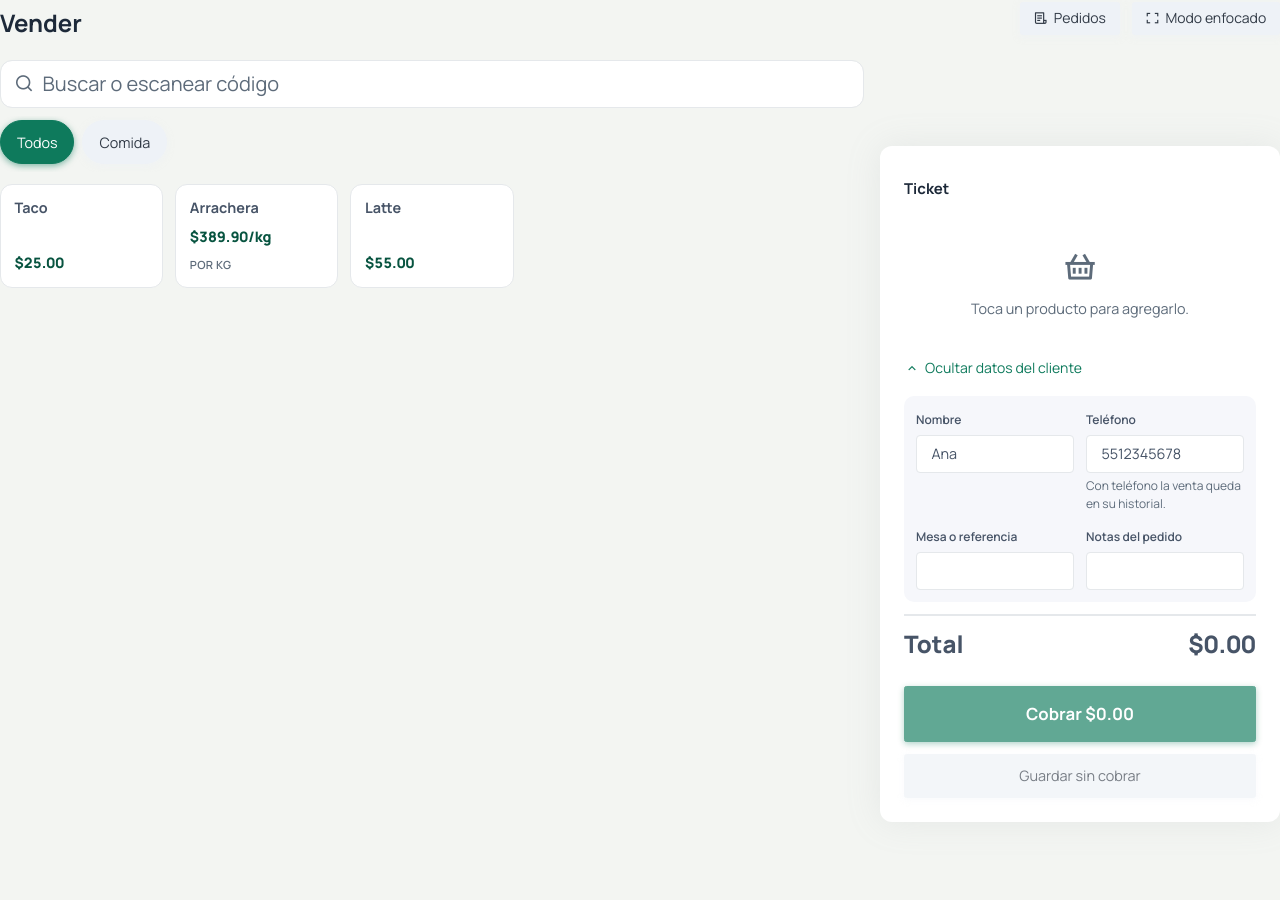
Scenario: SellPage › fills in the customer from the customer card as a counter sale that can be charged offline
The width and height of the screenshot is (1280, 900).
Click the button with aria-label "Agregar Taco" at coordinates (82, 236), box [0,184,163,288]
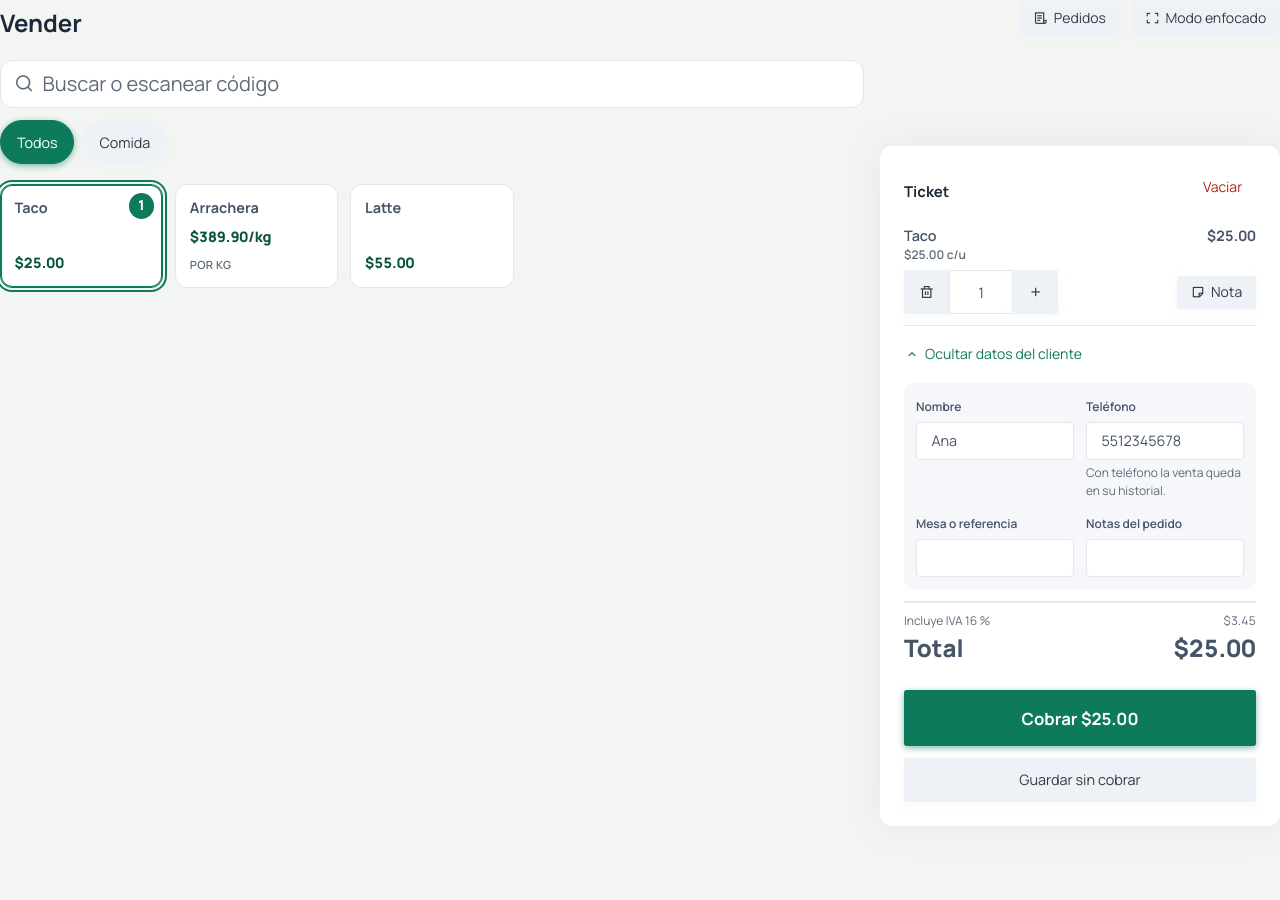
Expected: the field labelled "Nombre" holds "Ana", [916,422,1074,460]
Expected: the field labelled "Teléfono" holds "5512345678", [1086,422,1244,460]
Click the button "Cobrar $25.00" at coordinates (1080, 718), box [904,690,1256,746]
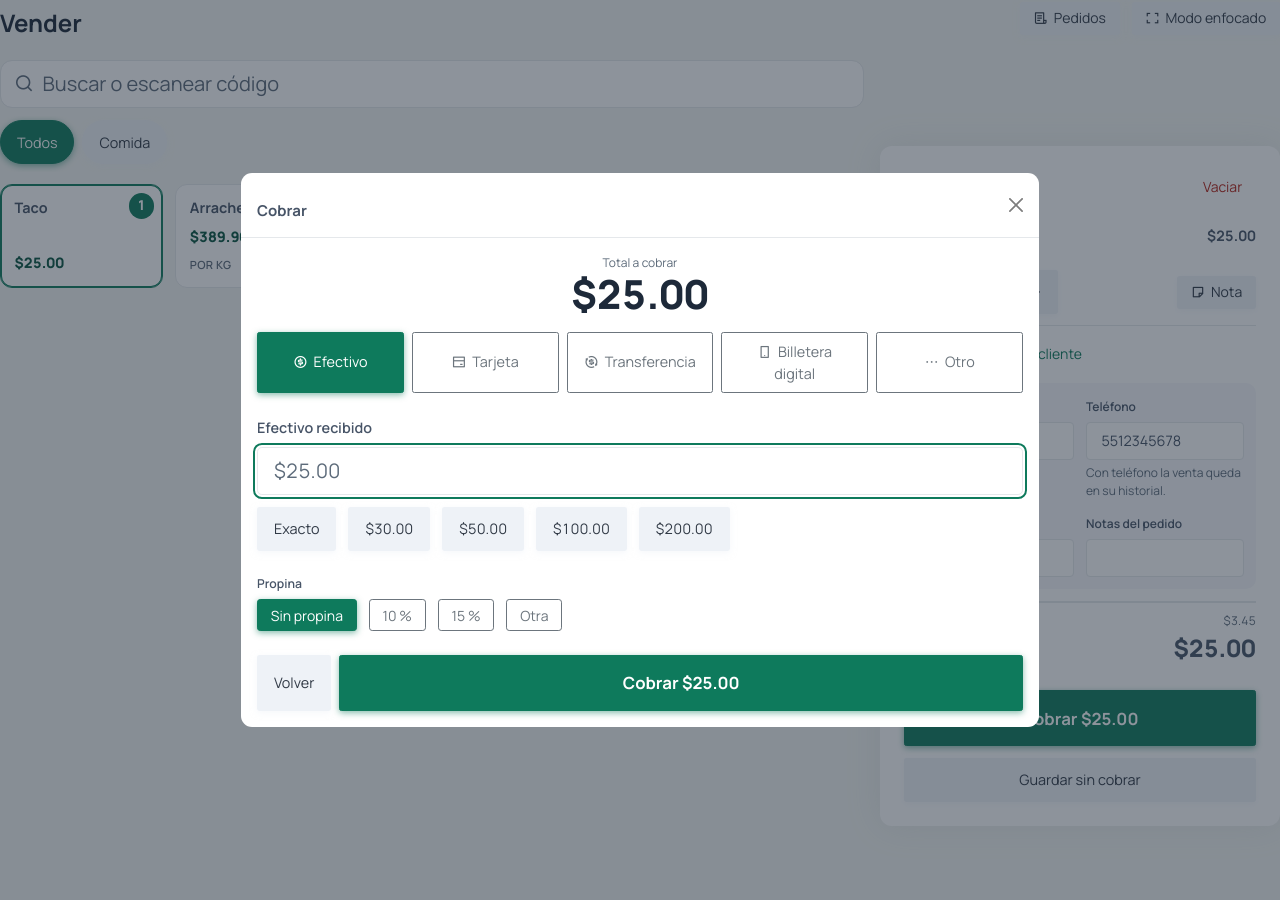
Click the button "Cobrar $25.00" at coordinates (681, 683), box [339,655,1023,711]
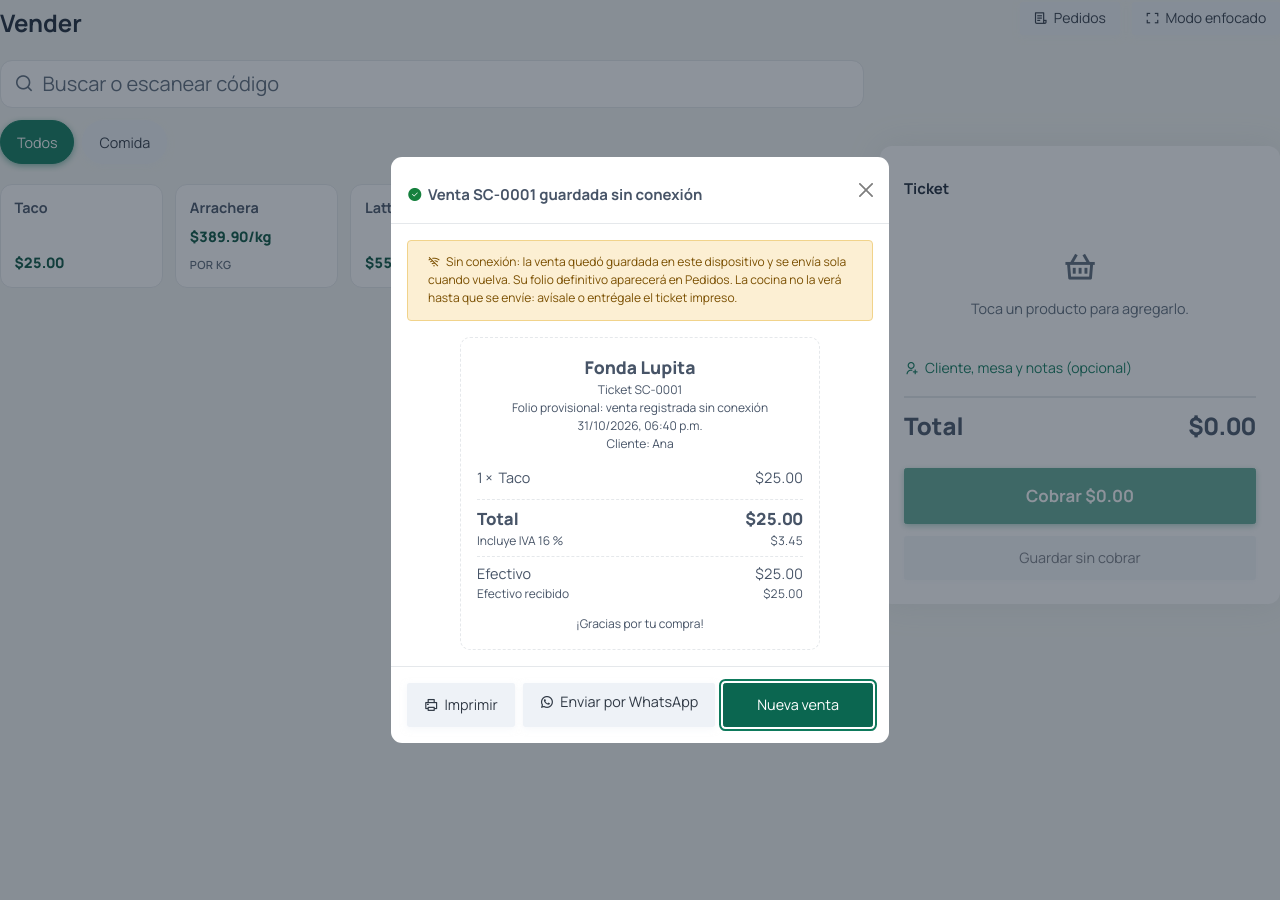
Now the heading "Venta SC-0001 guardada sin conexión" is shown, box [407,183,702,207]
